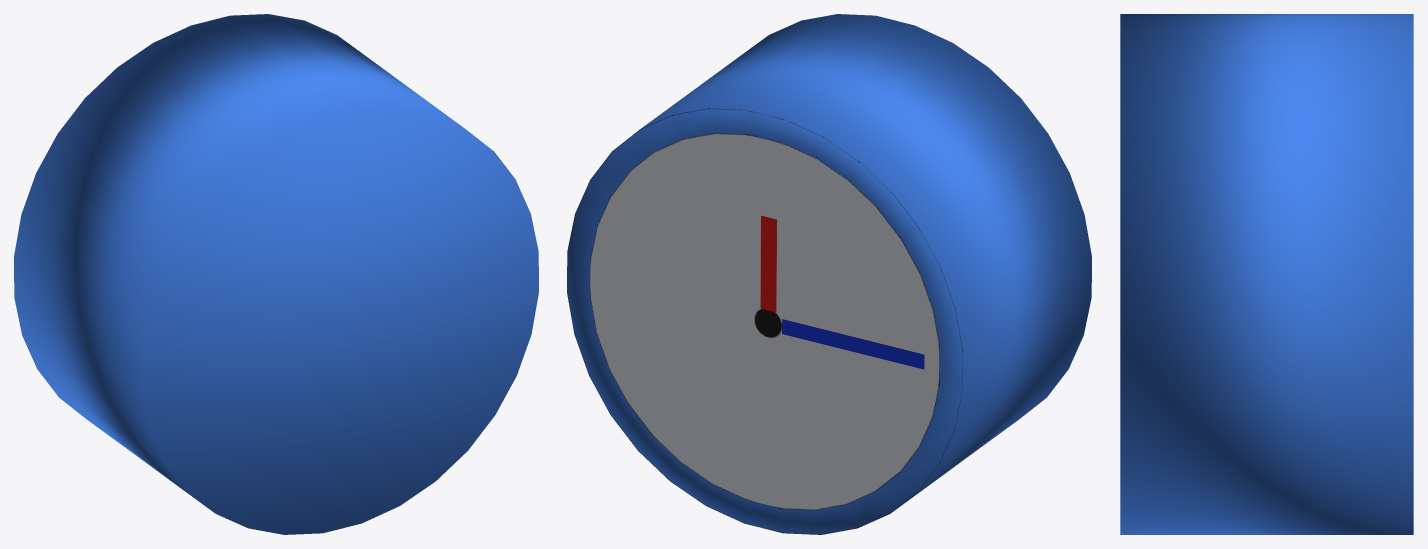
Rendered from time.obj.
3 views of the same model, side by side, from view 1: azimuth 30°, elevation 25°; view 2: azimuth 150°, elevation 25°; view 3: azimuth 270°, elevation 25° (orthographic). The views are drawn at different scales.
Visible parts, largest first — view 1: 円柱; view 2: 円柱; view 3: 円柱.
Boxes of the visible parts, bbox=[...] form: 円柱: bbox=[14, 14, 538, 534]; 円柱: bbox=[567, 14, 1091, 534]; 円柱: bbox=[1120, 14, 1413, 534].
Size of the model in its own units: 1.92 by 1.92 by 1.08.
